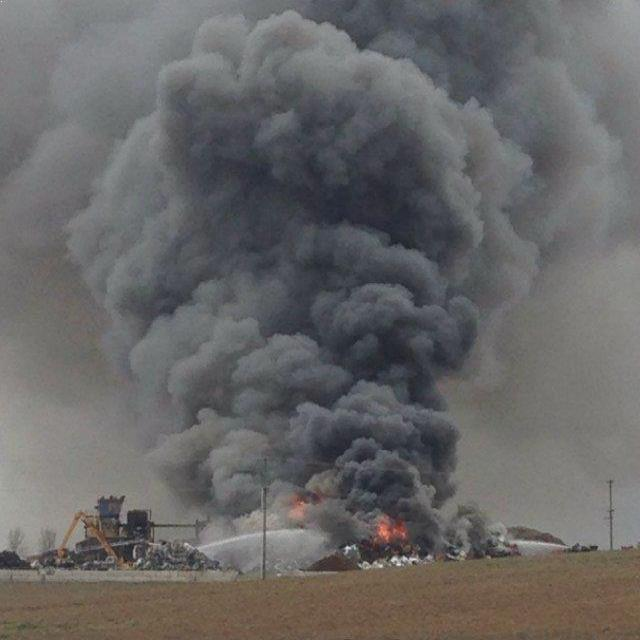Fire: (370, 515, 410, 547), (285, 497, 308, 523)
